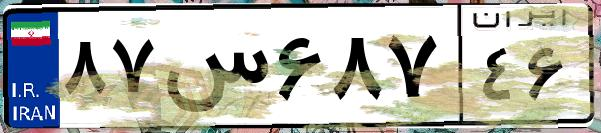4: (475, 38, 525, 113)
6: (270, 28, 330, 110), (525, 38, 570, 115)
7: (385, 28, 445, 110), (110, 28, 158, 98)
8: (330, 28, 385, 110), (57, 26, 110, 100)
س: (158, 20, 270, 120)
